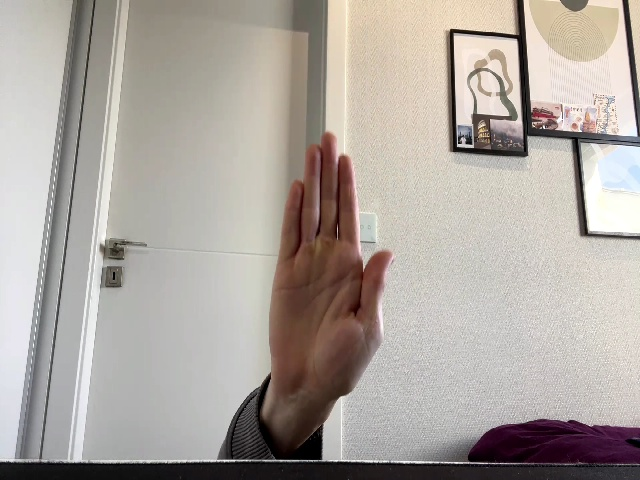B: (269, 132, 394, 411)
